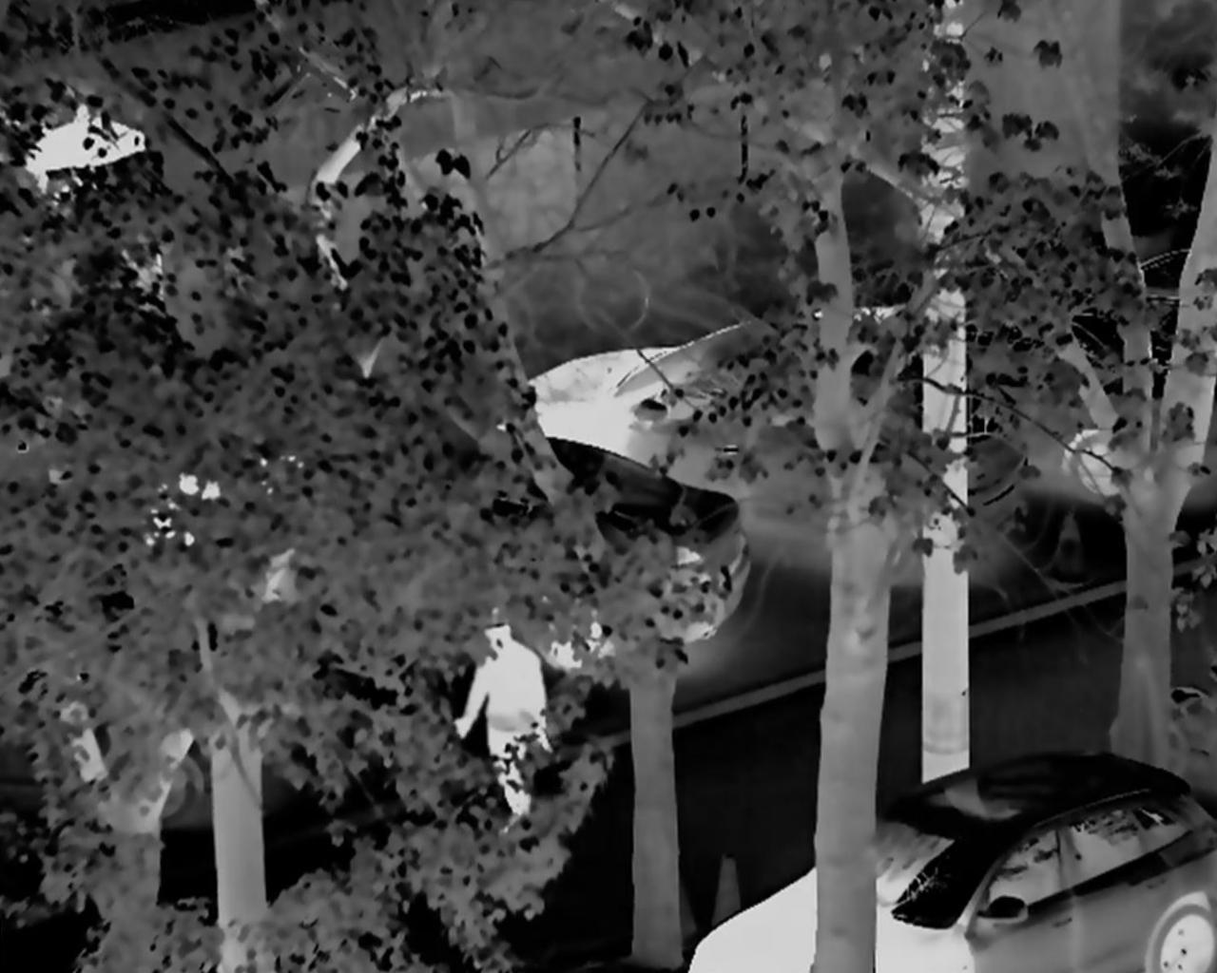person: (455, 610, 555, 837)
